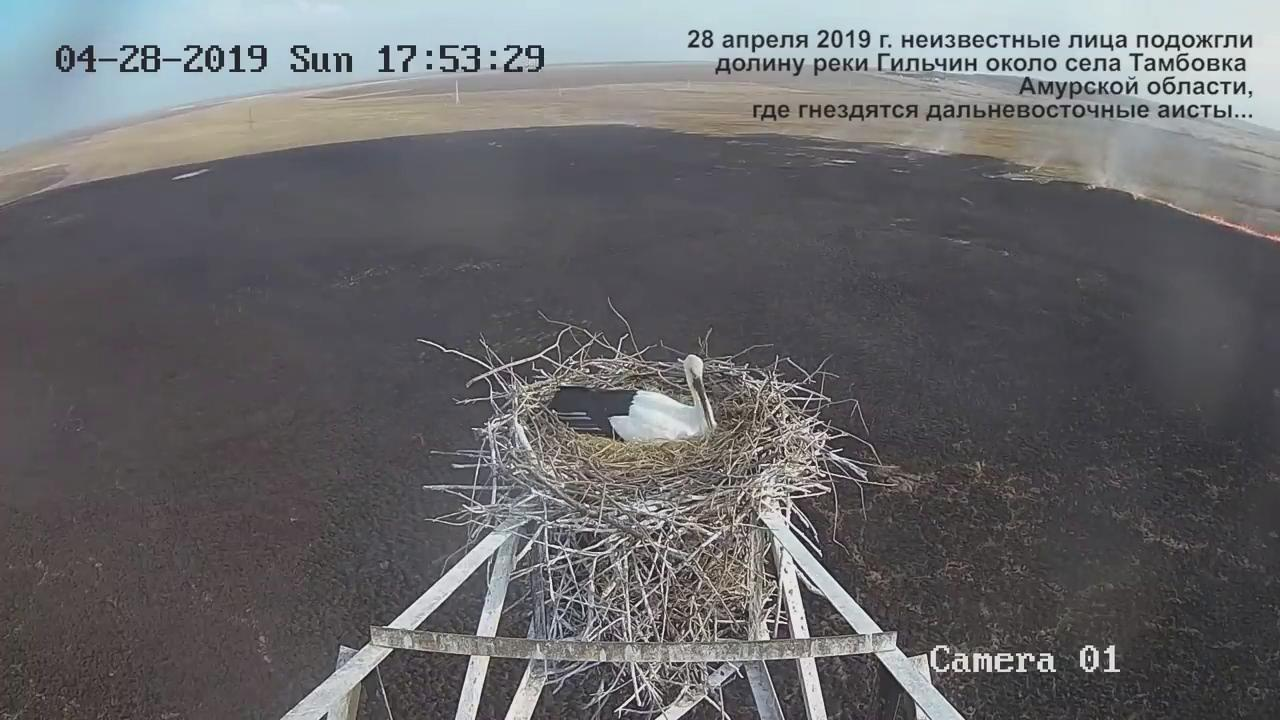fire: (1170, 202, 1278, 239)
